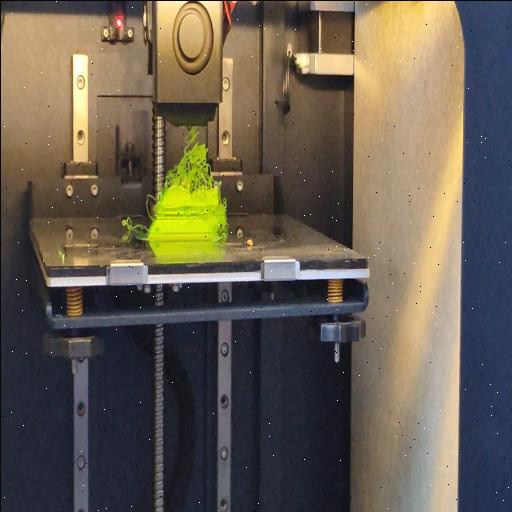spaghetti: (163, 122, 220, 194), (120, 215, 148, 231), (144, 188, 154, 224), (216, 228, 228, 244)
